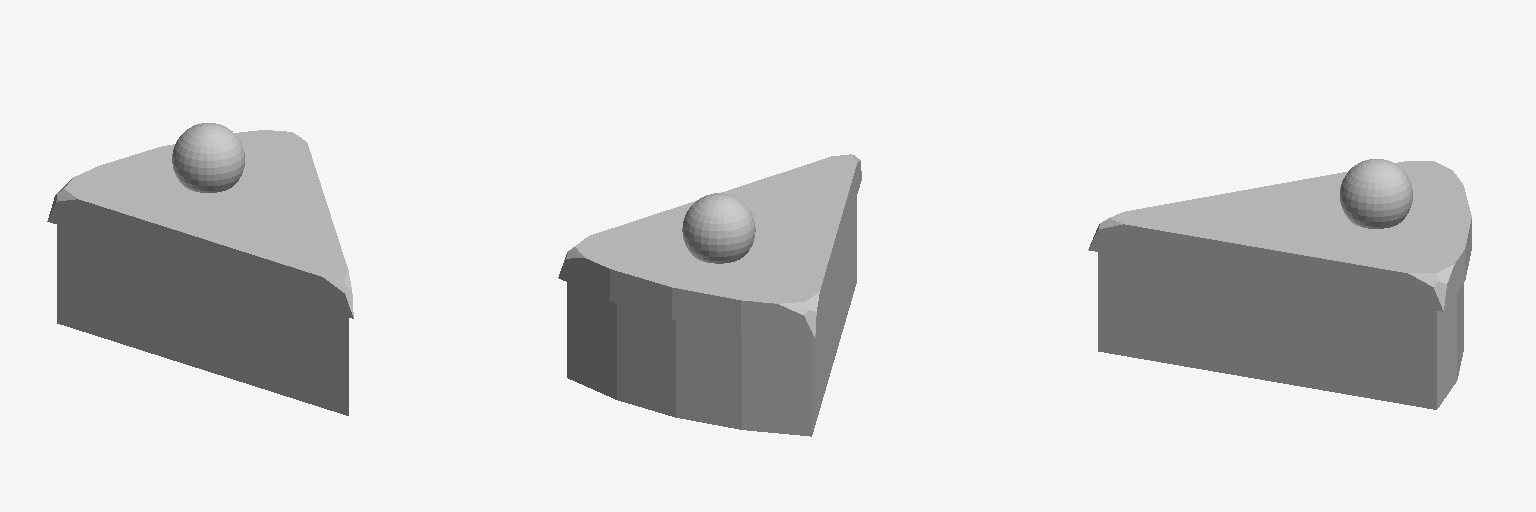
Rendered from cake.obj.
The picture shows the model from 3 angles: view 1: azimuth 30°, elevation 25°; view 2: azimuth 150°, elevation 25°; view 3: azimuth 270°, elevation 25°; orthographic projection.
Visible parts, largest first — view 1: Cylinder.001; view 2: Cylinder.001; view 3: Cylinder.001.
Boxes of the visible parts, <box> form: Cylinder.001: <box>47,123,353,415</box>; Cylinder.001: <box>558,154,861,436</box>; Cylinder.001: <box>1088,159,1471,409</box>.
Size of the model in its own units: 1.61 by 1.13 by 2.09.